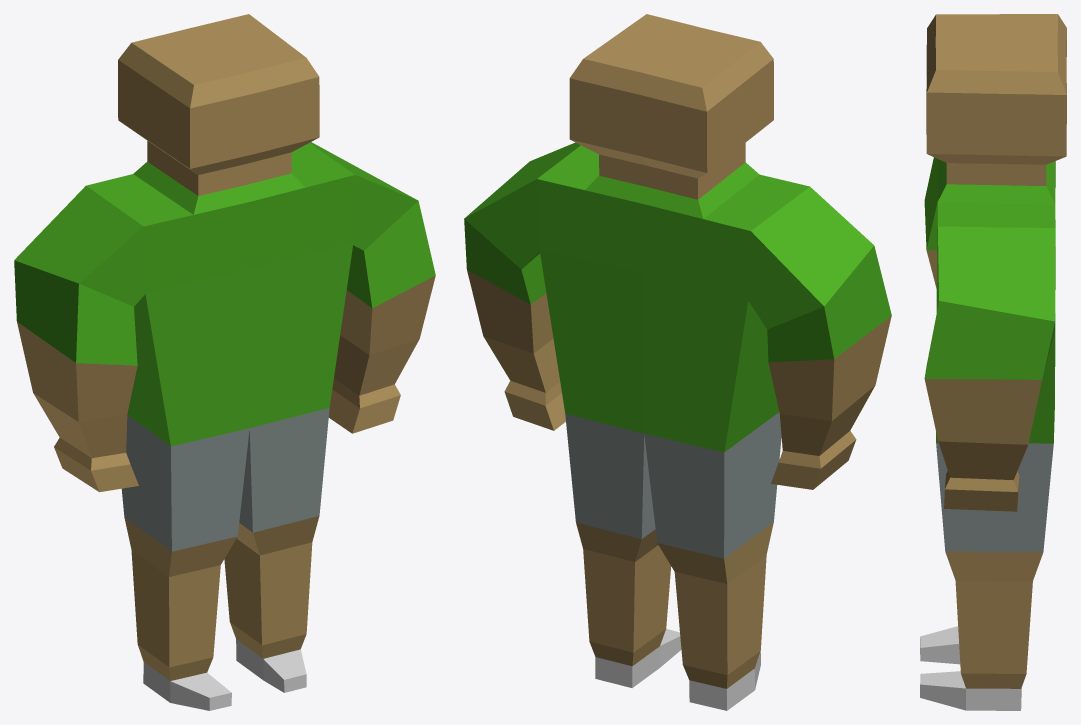
Rendered from hero.glb.
3 renders of one model, left to right at view 1: azimuth 30°, elevation 25°; view 2: azimuth 150°, elevation 25°; view 3: azimuth 270°, elevation 25°, orthographic.
Visible parts, largest first — view 1: Cube; view 2: Cube; view 3: Cube.
Part boxes in pixels (bbox=[...]): Cube: bbox=[14, 14, 435, 710]; Cube: bbox=[464, 14, 891, 710]; Cube: bbox=[920, 14, 1066, 710].
Bounding box in the file's own units: 1.12 × 1.86 × 0.3884.
